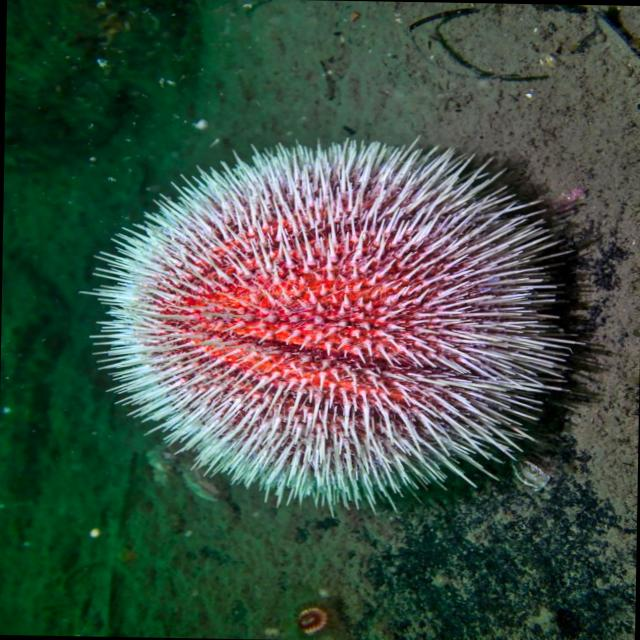Deniz Kestanesi: (75, 127, 590, 522)
